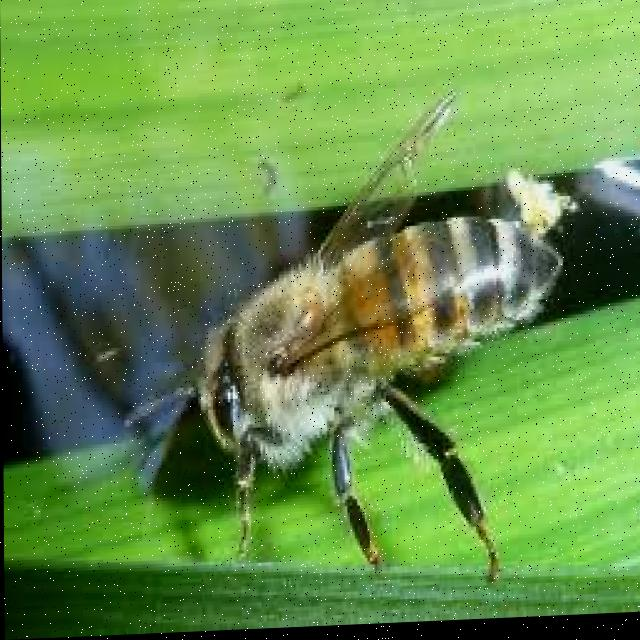Apis-mellifera-scutellata: (132, 68, 572, 610)
